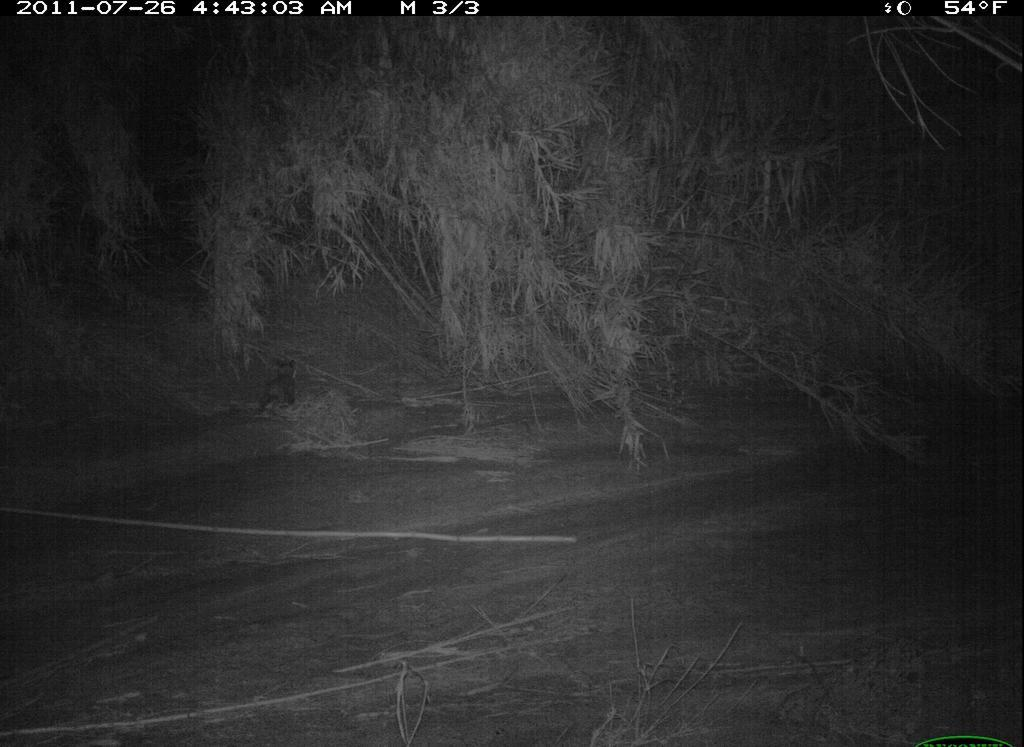bobcat: (241, 347, 317, 427)
